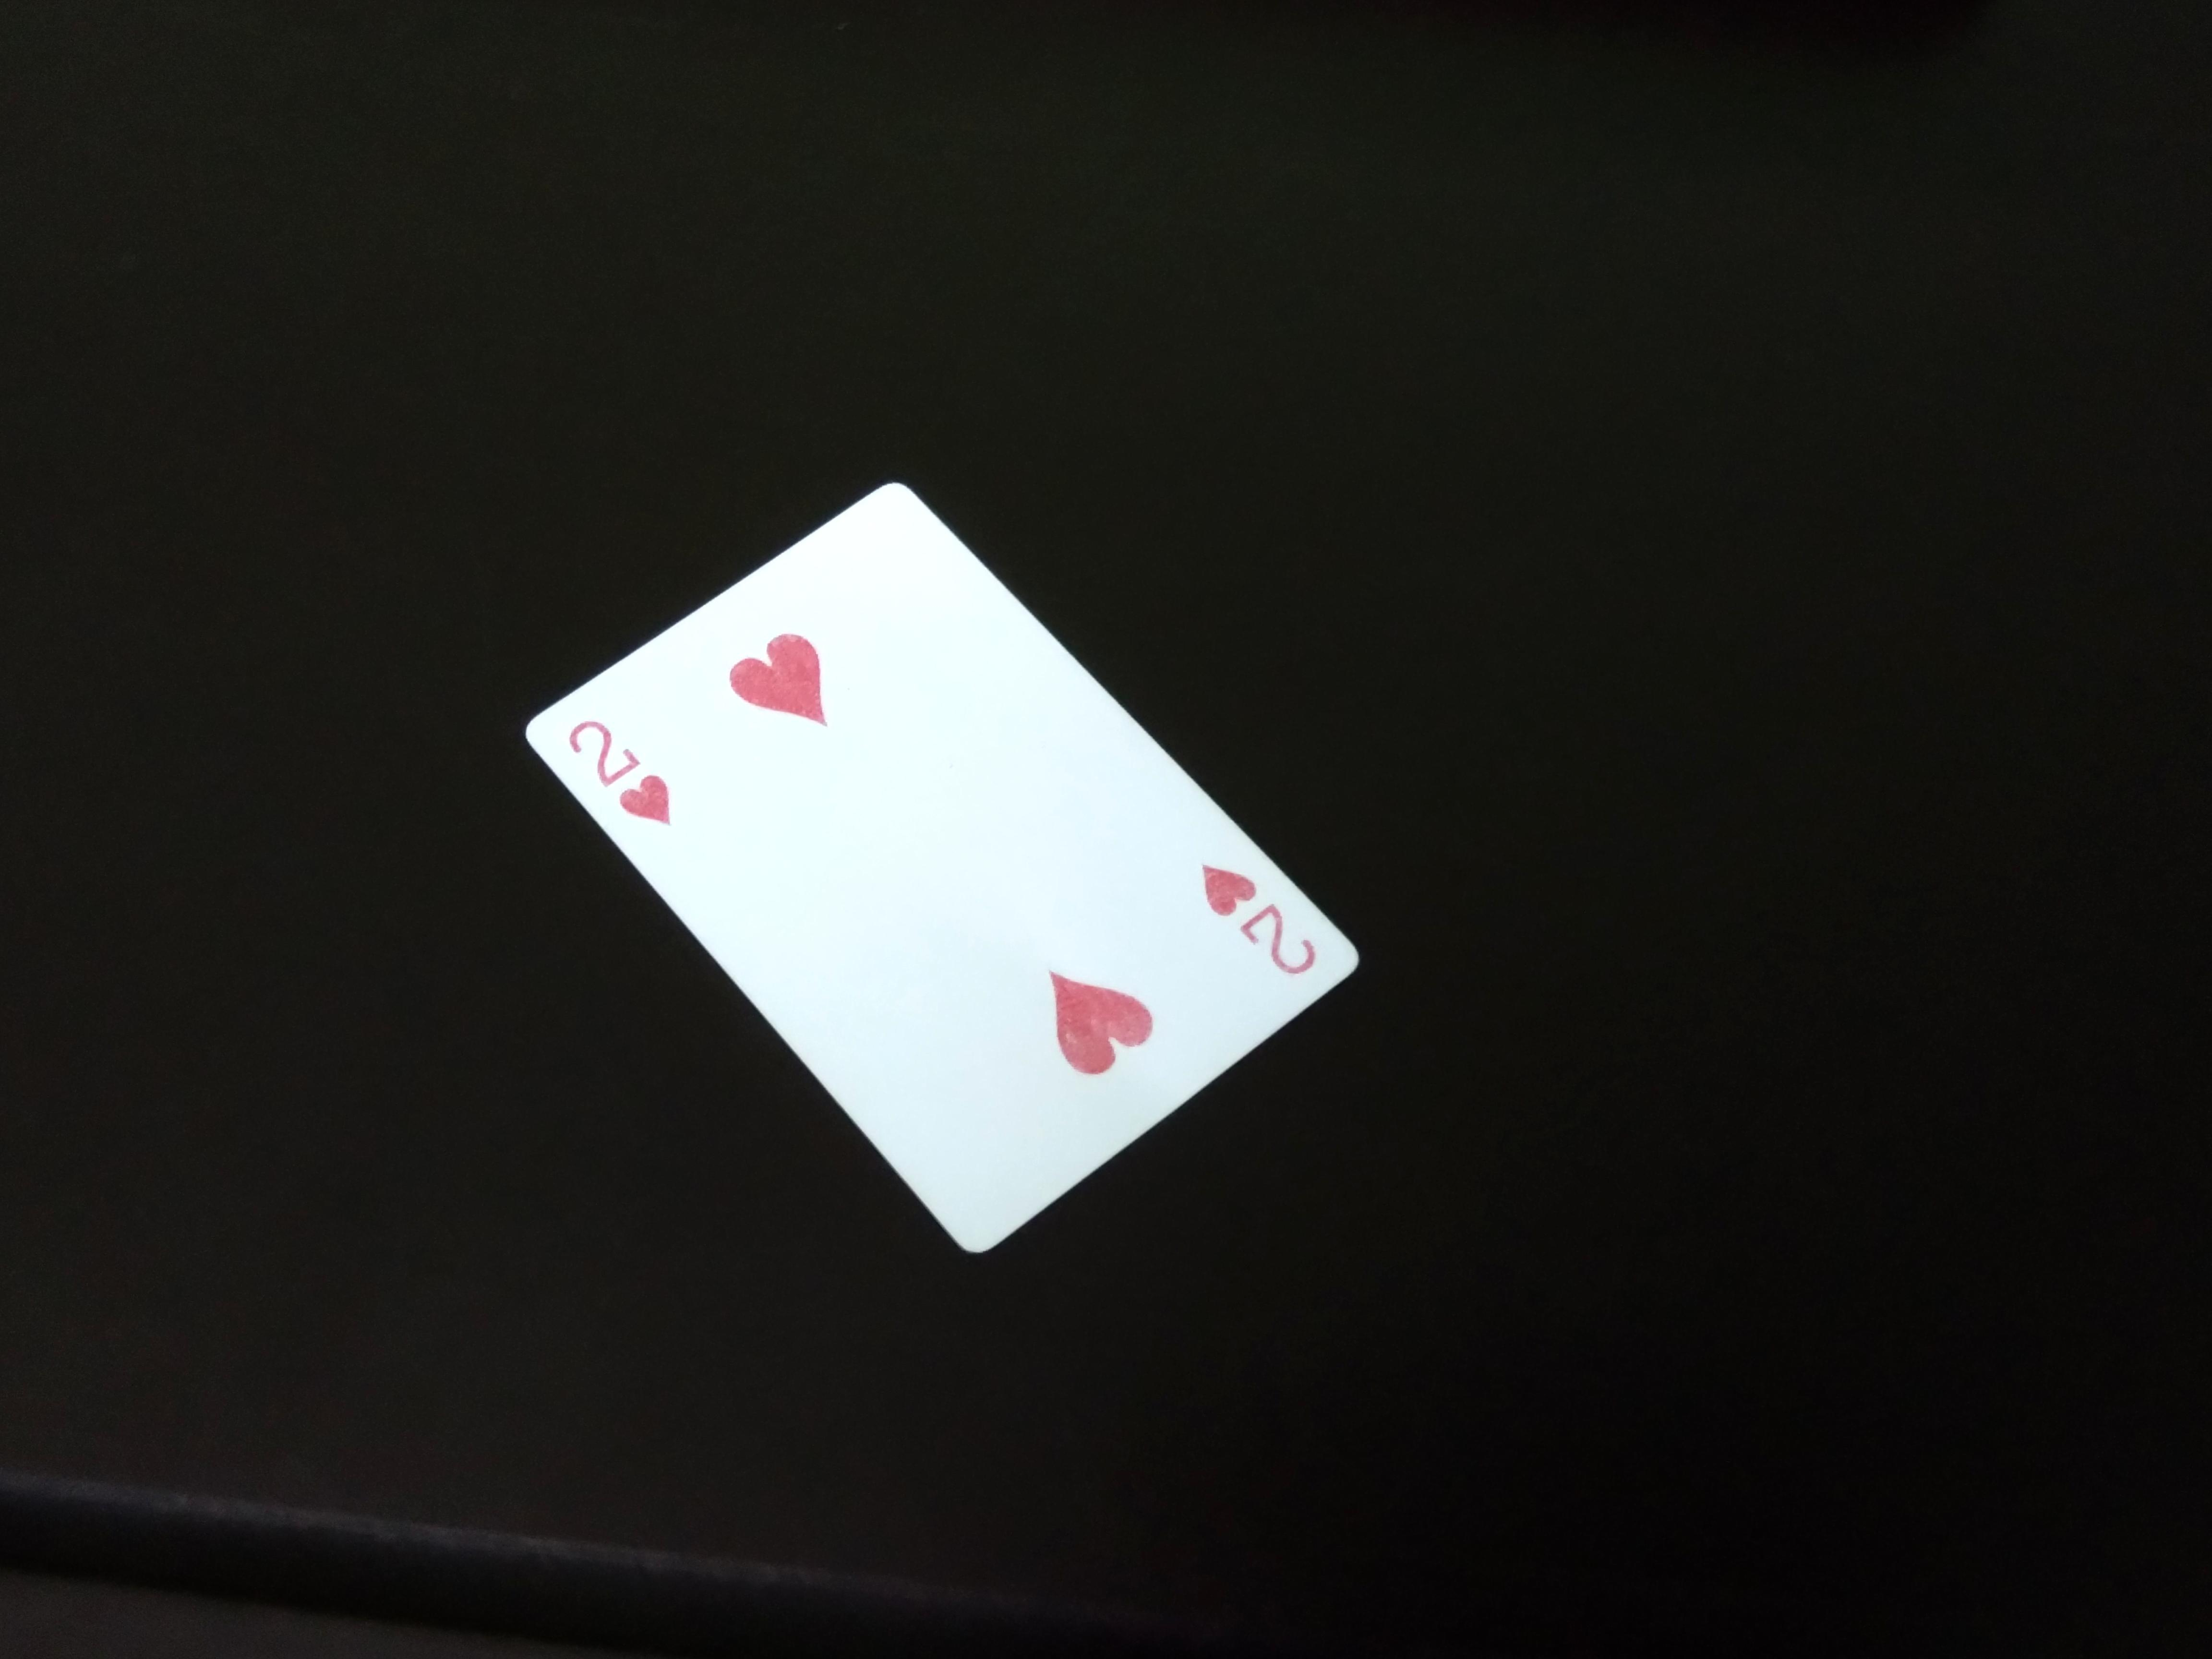2H: (1177, 850, 1332, 990)
